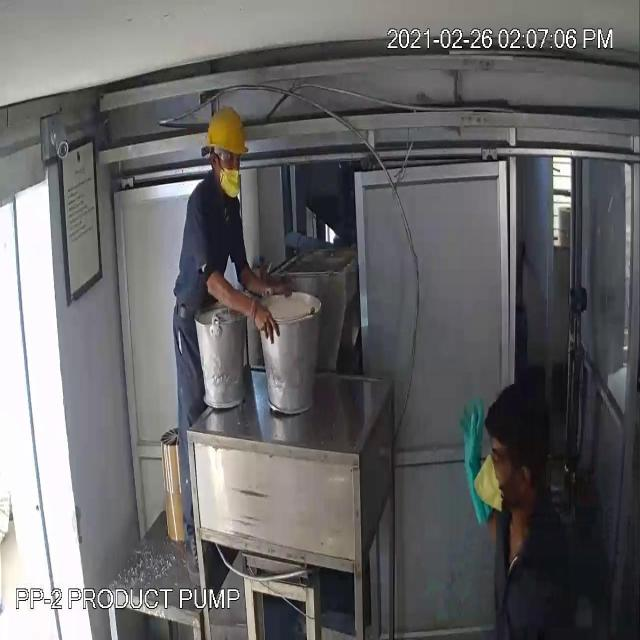helmet: (203, 99, 259, 178)
no-helmet: (482, 376, 556, 485)
